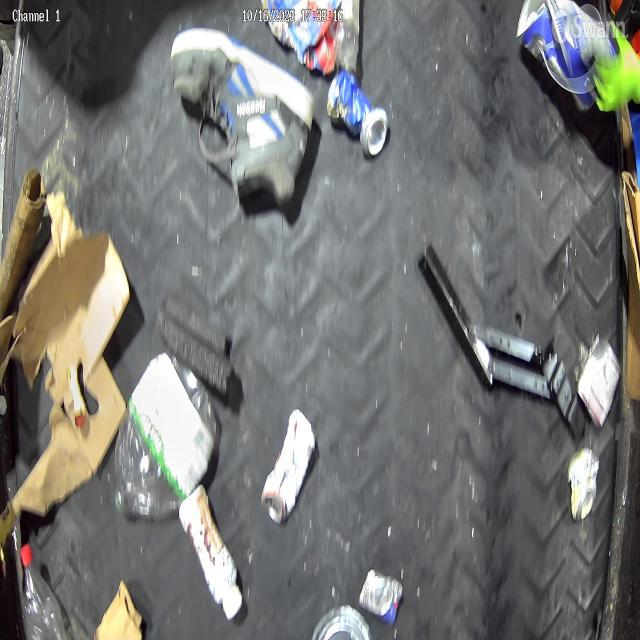can: (258, 406, 316, 525), (325, 67, 388, 163)
plastic_bottle: (108, 354, 218, 522), (182, 486, 248, 614), (18, 532, 70, 640)
